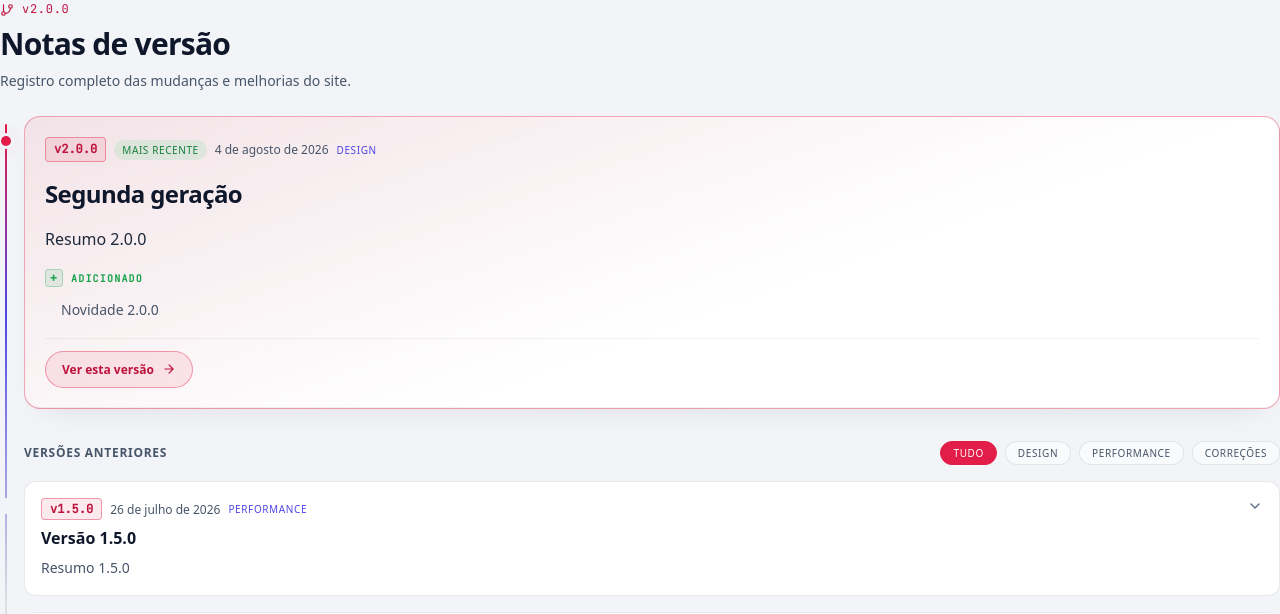
ReleaseNotes › expande e recolhe um item do histórico
This screenshot has width=1280, height=614.
Click the button with aria-label "v1.5.0 — Expandir": x=72, y=509 [25, 482, 1279, 595]
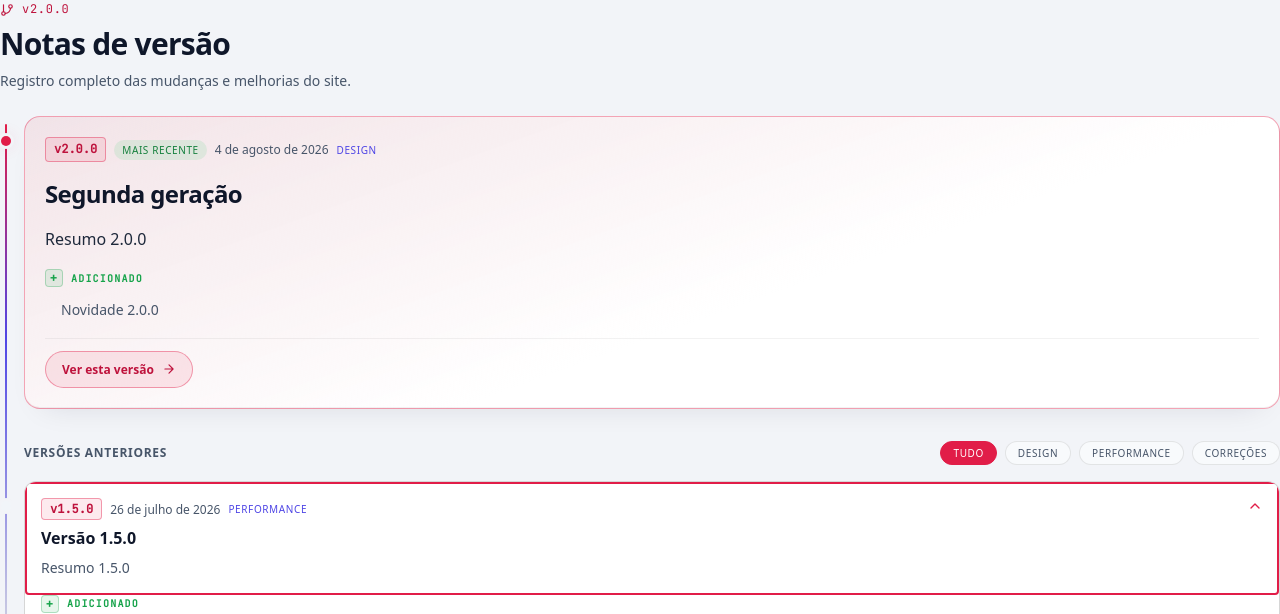
Expected: the button with aria-label "v1.5.0 — Expandir" is expanded
Click the button with aria-label "v1.5.0 — Expandir": x=72, y=509 [25, 482, 1279, 595]
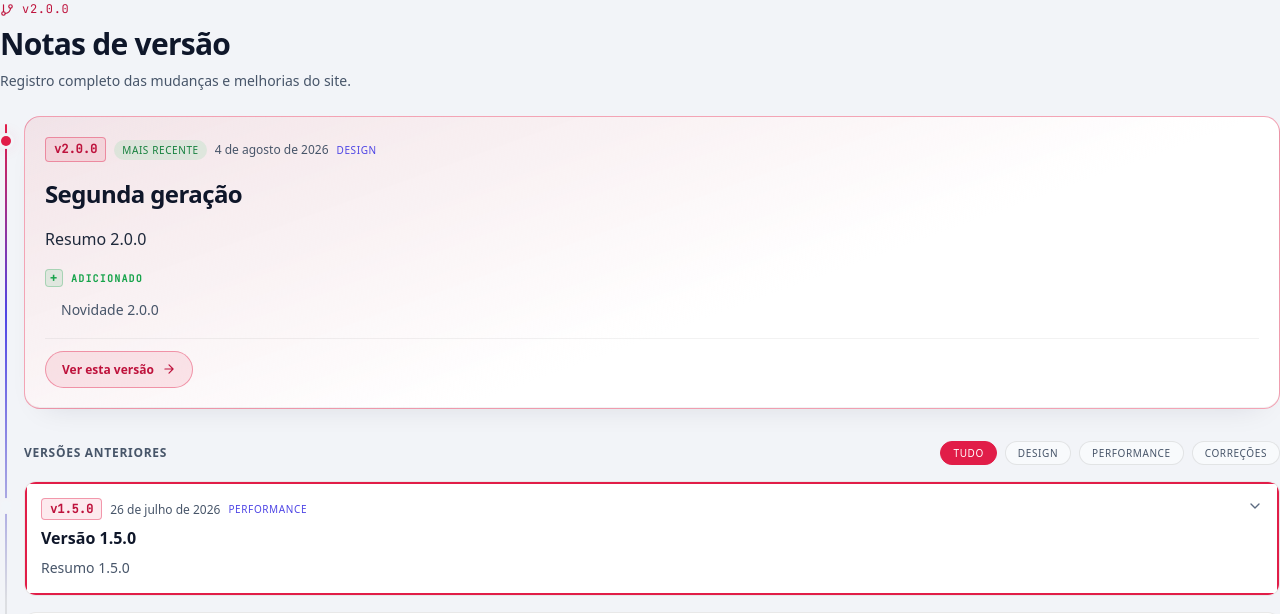
Expected: the button with aria-label "v1.5.0 — Expandir" is collapsed, [25, 482, 1279, 595]
